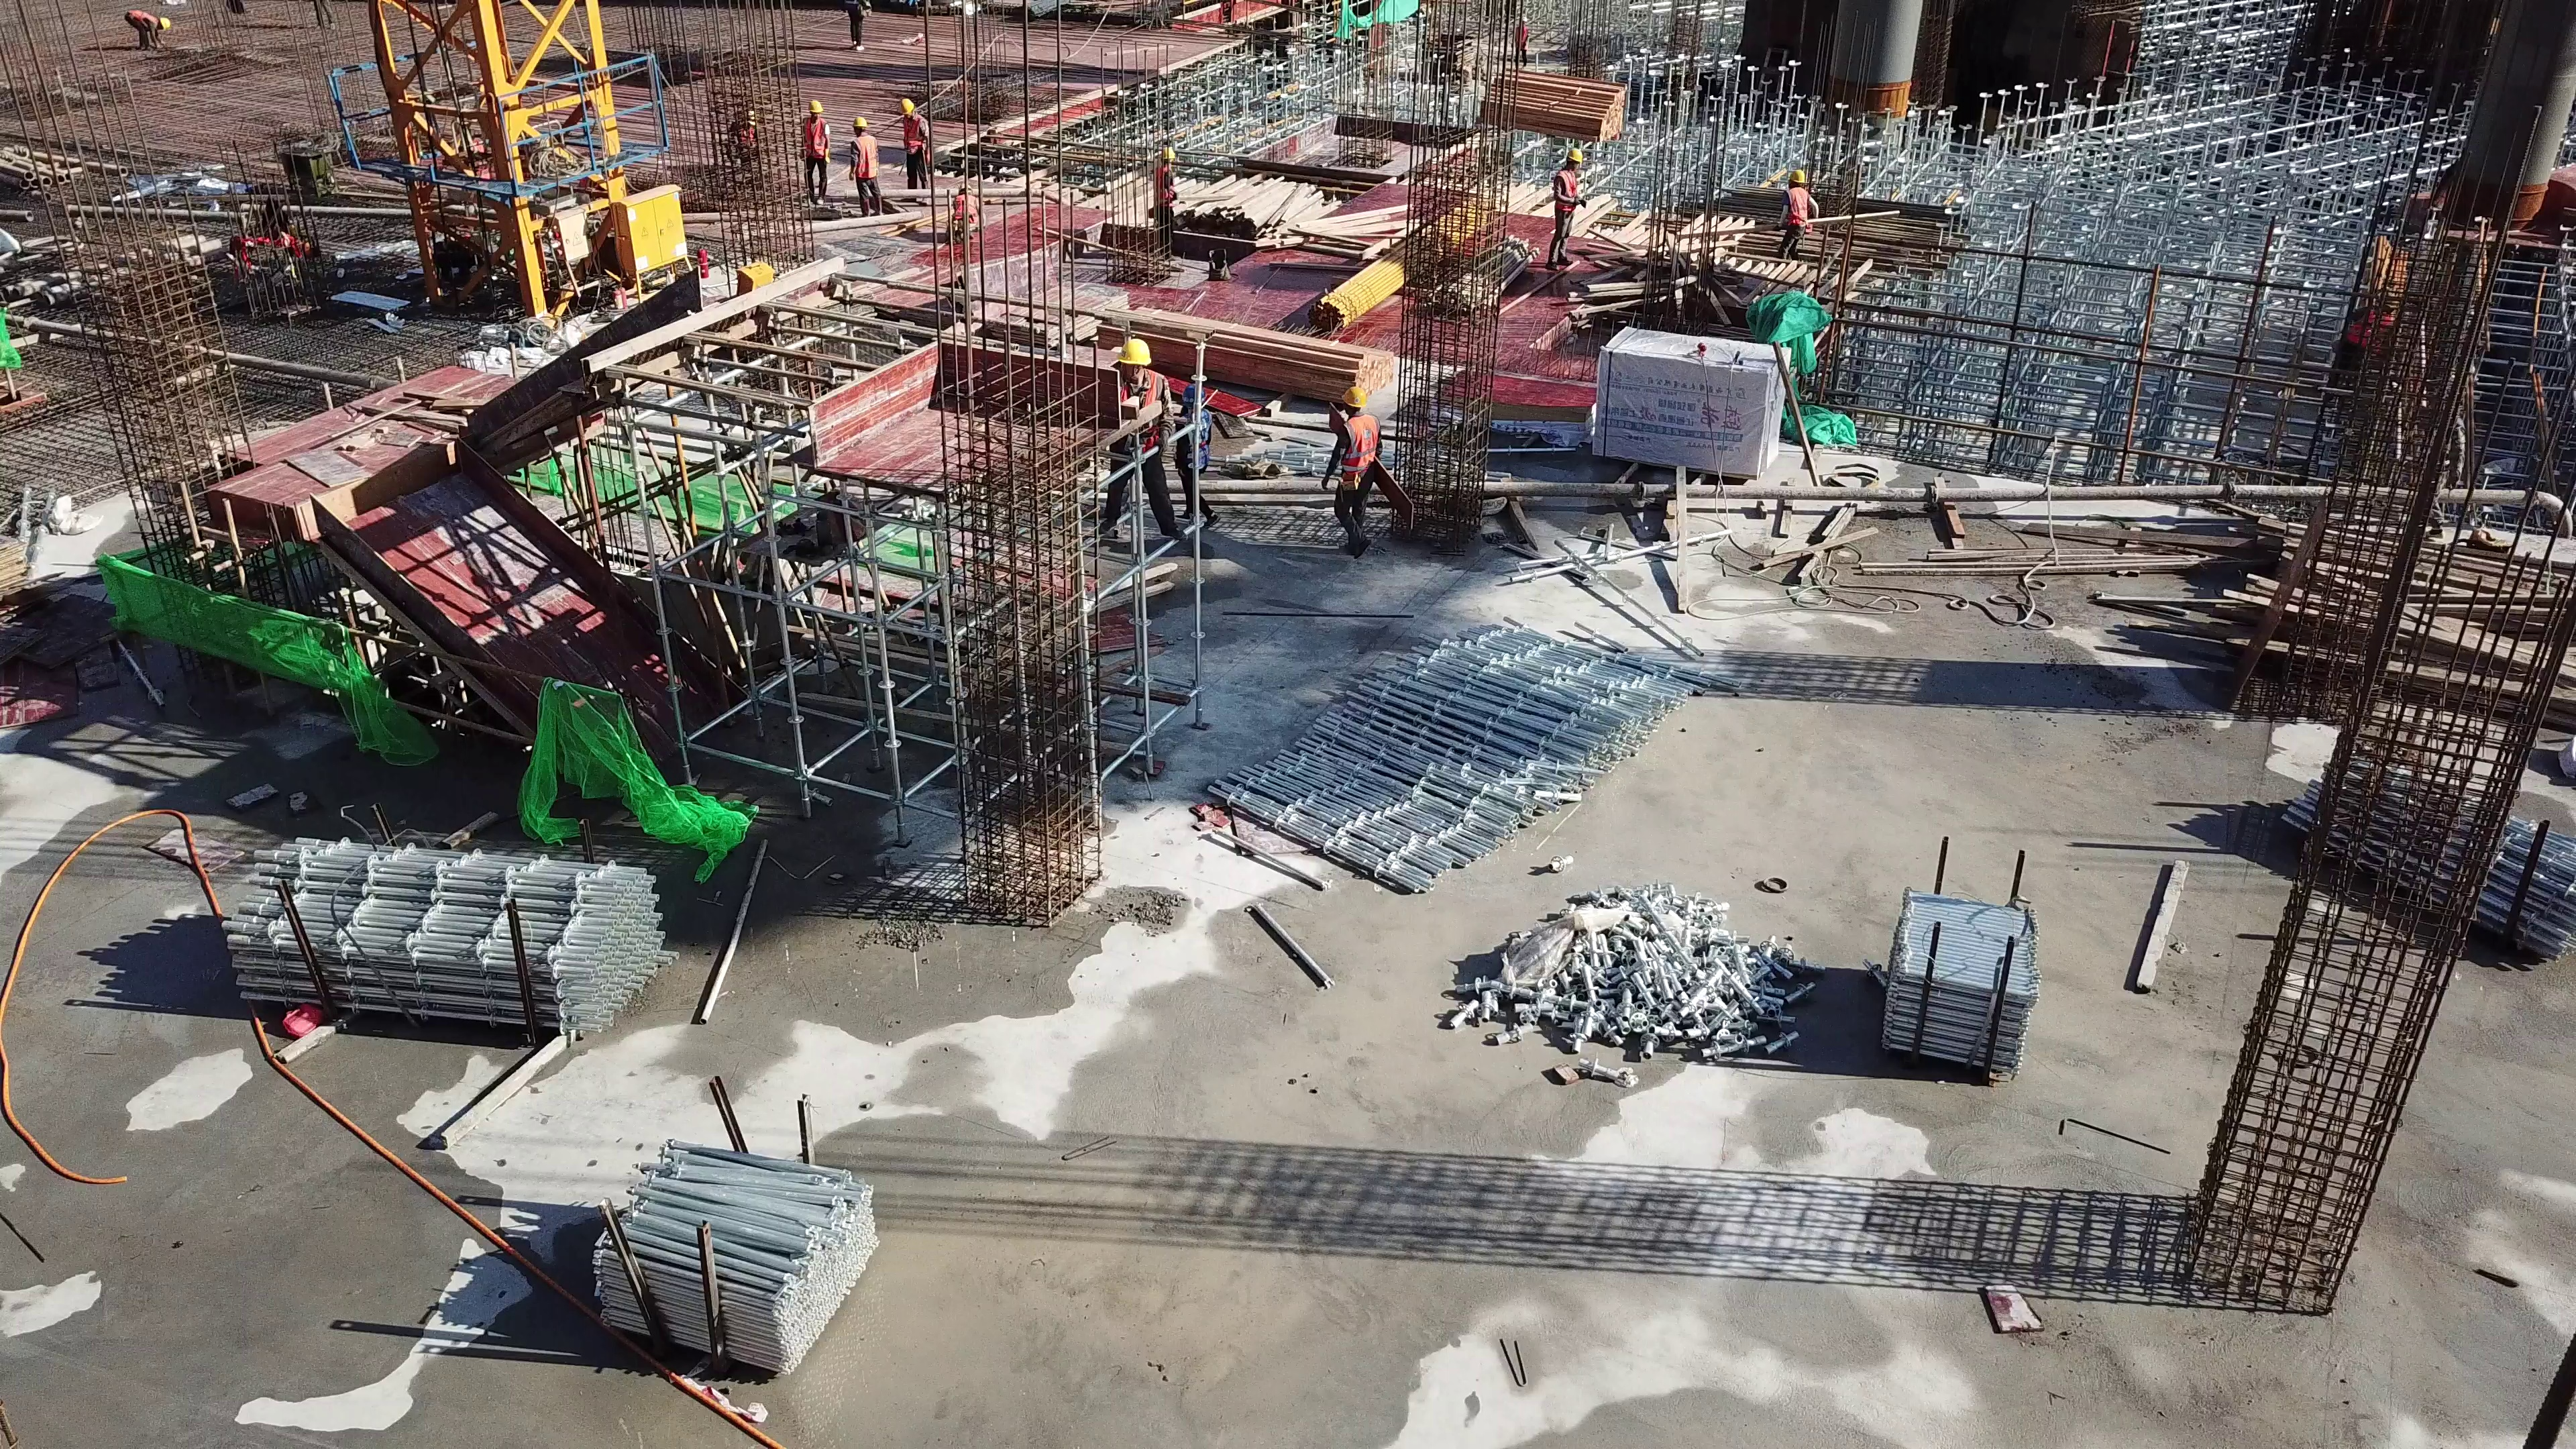board: (1440, 366, 1588, 445), (1005, 283, 1124, 343), (1, 535, 28, 595)
ebox: (604, 187, 695, 298), (550, 211, 604, 288)
helmet: (1114, 334, 1151, 366), (1340, 386, 1367, 409), (1185, 382, 1206, 411), (1785, 164, 1804, 185), (897, 97, 918, 115), (1568, 148, 1584, 164), (160, 15, 173, 33), (852, 117, 869, 130), (809, 99, 823, 114), (1162, 146, 1177, 160), (959, 183, 973, 190)
person: (1102, 335, 1184, 538), (1323, 386, 1379, 556), (2320, 296, 2396, 396), (1175, 382, 1218, 531), (2426, 405, 2467, 540), (1548, 144, 1585, 262), (1779, 167, 1820, 259), (898, 98, 934, 193), (847, 117, 882, 213), (799, 100, 830, 204), (1151, 146, 1177, 254), (123, 8, 170, 50), (733, 107, 761, 171), (950, 182, 980, 241), (842, 1, 870, 52), (1513, 17, 1529, 68)
scaffold: (1212, 605, 1670, 885), (225, 836, 654, 1022), (2288, 767, 2576, 956), (604, 1146, 849, 1358), (1888, 884, 2022, 1065)
vest: (1341, 414, 1377, 487), (1118, 370, 1153, 437), (1183, 410, 1207, 472), (2353, 309, 2387, 352), (806, 117, 826, 156), (856, 138, 876, 179), (1786, 187, 1809, 224), (1157, 164, 1175, 205), (1556, 170, 1575, 211), (126, 7, 162, 25), (954, 195, 979, 217), (906, 117, 922, 148), (1513, 25, 1526, 46)
wood: (1106, 303, 1391, 395), (1483, 70, 1624, 144)
